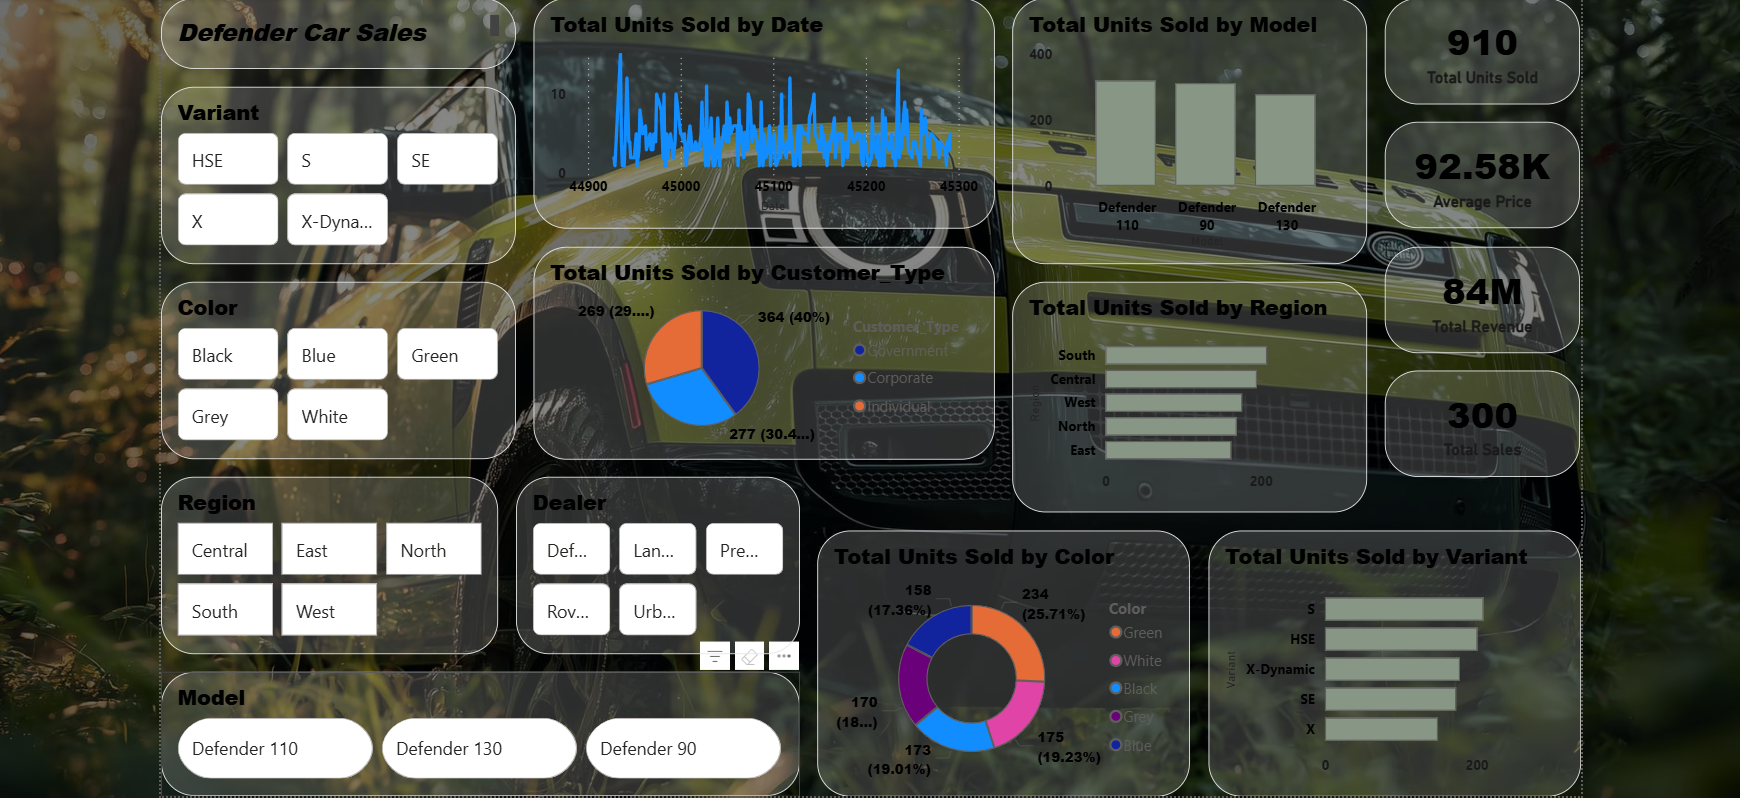

This screenshot's page, from the dashboard's own definition file:
{"tool":"powerbi","page":{"name":"Page 1","canvas":[1280,720],"ordinal":0},"visuals":[{"type":"card","fields":{"Values":["Defender_Sales.Average Price"]},"box":[1104,112,176,96],"z":0},{"type":"card","fields":{"Values":["Defender_Sales.Total Revenue"]},"box":[1104,224,176,96],"z":1000},{"type":"card","fields":{"Values":["Defender_Sales.Total Sales"]},"box":[1104,336,176,96],"z":2000},{"type":"card","fields":{"Values":["Defender_Sales.Total Units Sold"]},"box":[1104,0,176,96],"z":3000},{"type":"barChart","fields":{"Category":["Defender_Sales.Region"],"Y":["Defender_Sales.Total Units Sold"]},"box":[768,256,320,208],"z":4000},{"type":"clusteredColumnChart","fields":{"Category":["Defender_Sales.Model"],"Y":["Defender_Sales.Total Units Sold"]},"box":[768,0,320,240],"z":5000},{"type":"textbox","box":[0,0,320,64],"z":6000},{"type":"barChart","fields":{"Category":["Defender_Sales.Variant"],"Y":["Defender_Sales.Total Units Sold"]},"box":[944,480,336,240],"z":7000},{"type":"pieChart","fields":{"Category":["Defender_Sales.Customer_Type"],"Y":["Defender_Sales.Total Units Sold"]},"box":[336,224,416,192],"z":8000},{"type":"donutChart","fields":{"Category":["Defender_Sales.Color"],"Y":["Defender_Sales.Total Units Sold"]},"box":[592,480,336,240],"z":9000},{"type":"lineChart","fields":{"Category":["Defender_Sales.Date"],"Y":["Defender_Sales.Total Units Sold"]},"box":[336,0,416,208],"z":10000},{"type":"advancedSlicerVisual","fields":{"Values":["Defender_Sales.Variant"]},"box":[0,80,320,160],"z":11000},{"type":"advancedSlicerVisual","fields":{"Values":["Defender_Sales.Color"]},"box":[0,256,320,160],"z":12000},{"type":"advancedSlicerVisual","fields":{"Values":["Defender_Sales.Model"]},"box":[0,608,576,112],"z":13000},{"type":"advancedSlicerVisual","fields":{"Values":["Defender_Sales.Region"]},"box":[0,432,304,160],"z":14000},{"type":"advancedSlicerVisual","fields":{"Values":["Defender_Sales.Dealer"]},"box":[320,432,256,160],"z":15000}]}

Visuals, with their boxes on the page's 1280x720 design canvas (x1, y1, x2, y2). These are canvas units, not pixel positions in the 1740x798 screenshot, which may show the page scaled, cropped or inside an application window:
card - Defender_Sales.Average Price: <bbox>1104, 112, 1280, 208</bbox>
card - Defender_Sales.Total Revenue: <bbox>1104, 224, 1280, 320</bbox>
card - Defender_Sales.Total Sales: <bbox>1104, 336, 1280, 432</bbox>
card - Defender_Sales.Total Units Sold: <bbox>1104, 0, 1280, 96</bbox>
barChart - Defender_Sales.Region x Defender_Sales.Total Units Sold: <bbox>768, 256, 1088, 464</bbox>
clusteredColumnChart - Defender_Sales.Model x Defender_Sales.Total Units Sold: <bbox>768, 0, 1088, 240</bbox>
textbox: <bbox>0, 0, 320, 64</bbox>
barChart - Defender_Sales.Variant x Defender_Sales.Total Units Sold: <bbox>944, 480, 1280, 720</bbox>
pieChart - Defender_Sales.Customer_Type x Defender_Sales.Total Units Sold: <bbox>336, 224, 752, 416</bbox>
donutChart - Defender_Sales.Color x Defender_Sales.Total Units Sold: <bbox>592, 480, 928, 720</bbox>
lineChart - Defender_Sales.Date x Defender_Sales.Total Units Sold: <bbox>336, 0, 752, 208</bbox>
advancedSlicerVisual - Defender_Sales.Variant: <bbox>0, 80, 320, 240</bbox>
advancedSlicerVisual - Defender_Sales.Color: <bbox>0, 256, 320, 416</bbox>
advancedSlicerVisual - Defender_Sales.Model: <bbox>0, 608, 576, 720</bbox>
advancedSlicerVisual - Defender_Sales.Region: <bbox>0, 432, 304, 592</bbox>
advancedSlicerVisual - Defender_Sales.Dealer: <bbox>320, 432, 576, 592</bbox>
